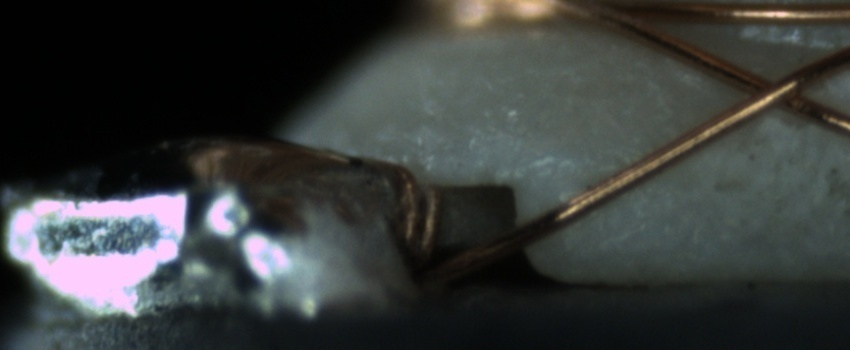CL: (722, 61, 826, 122)
TE: (362, 147, 442, 265)
